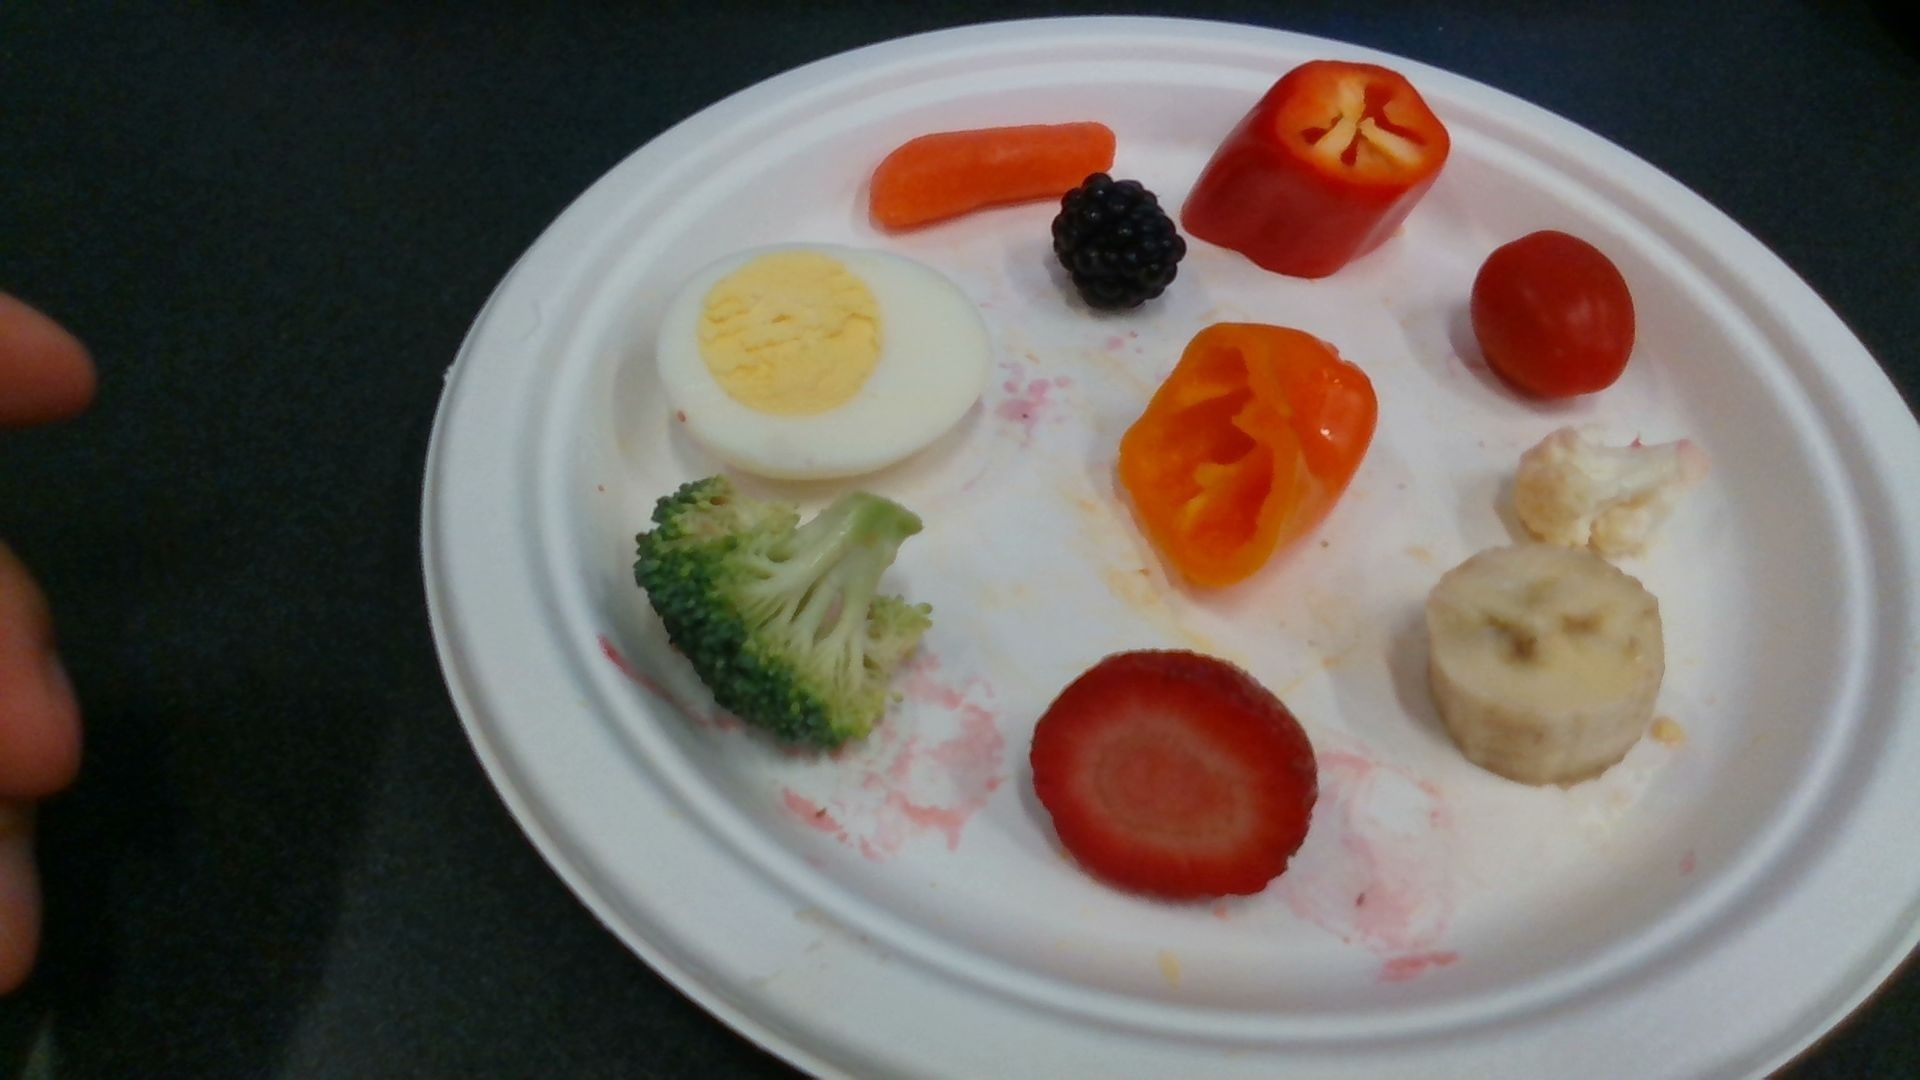banana: (1424, 553, 1664, 781)
bell_pepper: (1120, 320, 1379, 582), (1182, 61, 1449, 276)
blackberry: (1054, 175, 1184, 310)
broccoli: (629, 481, 928, 733)
carrot: (872, 123, 1116, 229)
cauliflower: (1513, 430, 1700, 551)
cherry_tomato: (1472, 233, 1635, 396)
egg: (657, 248, 986, 476)
strawberry: (1034, 651, 1317, 901)
